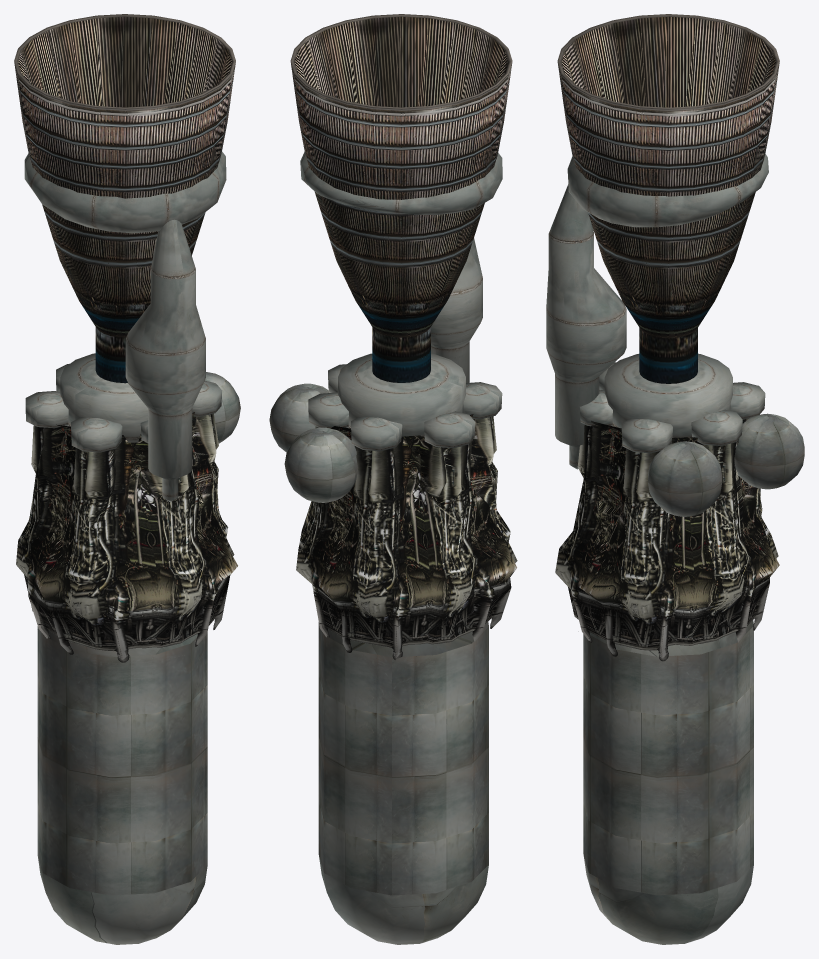
The model's file is RocketEngine.fbx.
3 renders of one model, left to right at view 1: azimuth 30°, elevation 25°; view 2: azimuth 150°, elevation 25°; view 3: azimuth 270°, elevation 25°, orthographic.
Parts seen in each view (by area): view 1: Cylinder, F1 Engine.002; view 2: Cylinder, F1 Engine.002; view 3: Cylinder, F1 Engine.002.
Boxes of the visible parts, x1,y1,x2,y2 form: Cylinder: (16, 353, 240, 944); F1 Engine.002: (14, 14, 235, 502); Cylinder: (269, 353, 517, 944); F1 Engine.002: (290, 14, 512, 382); Cylinder: (555, 353, 804, 944); F1 Engine.002: (546, 14, 779, 469).
Size of the model in its own units: 388 by 1482 by 396.
